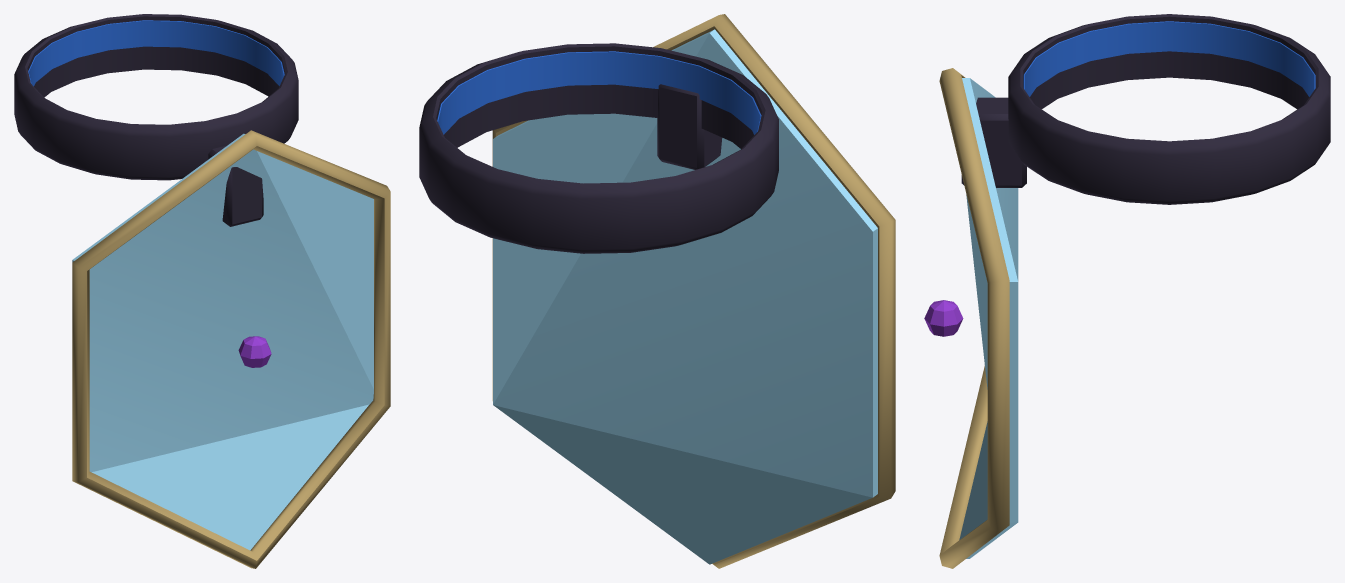
File: Kit_Deco_LeagueShield_L.glb
The picture shows the model from 3 angles, left to right: view 1: azimuth 30°, elevation 25°; view 2: azimuth 150°, elevation 25°; view 3: azimuth 270°, elevation 25°; orthographic projection. The views are drawn at different scales.
Visible parts, largest first — view 1: Kit_Deco_LeagueShield_L; view 2: Kit_Deco_LeagueShield_L; view 3: Kit_Deco_LeagueShield_L.
Boxes of the visible parts, x1,y1,x2,y2 form: Kit_Deco_LeagueShield_L: (14,14,390,568); Kit_Deco_LeagueShield_L: (419,14,895,568); Kit_Deco_LeagueShield_L: (924,14,1330,568).
Bounding box in the file's own units: 0.2553 × 0.3393 × 0.2494.
